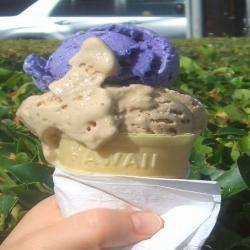icecream: (18, 16, 214, 186)
